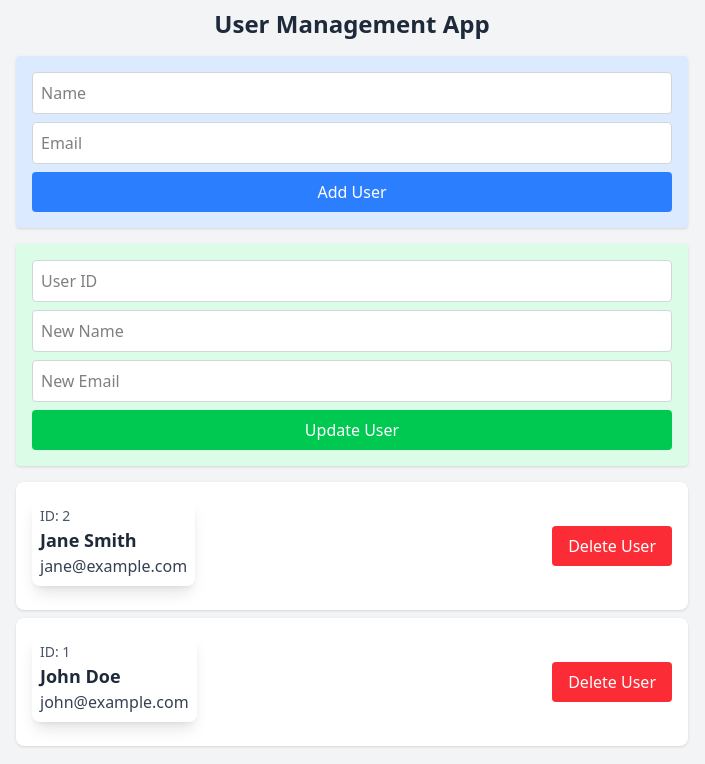
Test case: Home Component › Deleting Users › should delete a user
Expected: the text "John Doe" is shown, [40,664,120,688]
Click the button "Delete User" in the row of "john@example.com" at (612, 682), box [552,662,672,702]
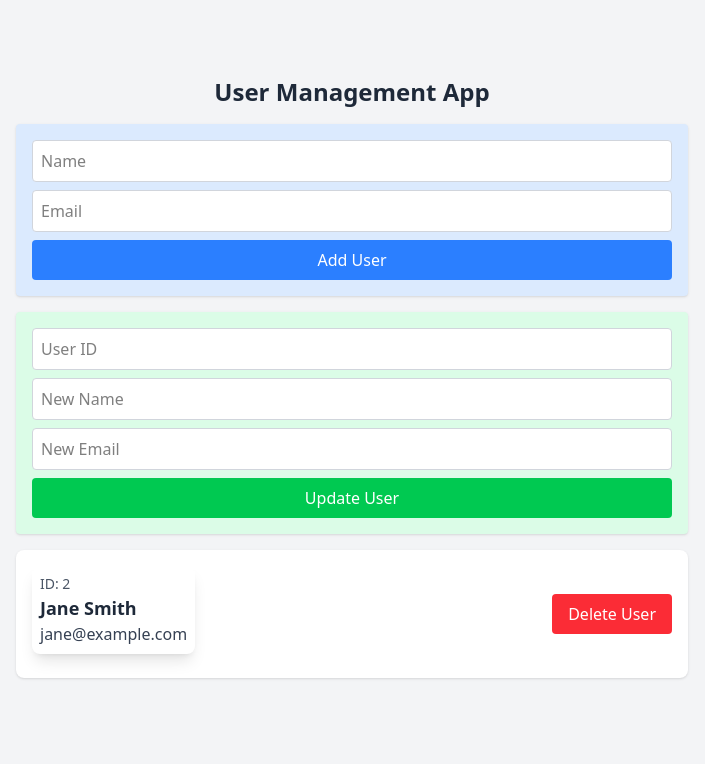
Now the text "John Doe" is gone
